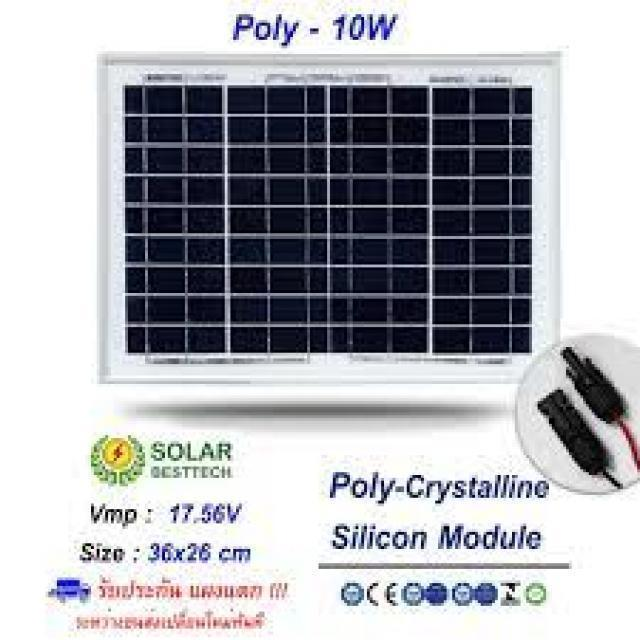Normal Solar Panel: (102, 63, 554, 384)
